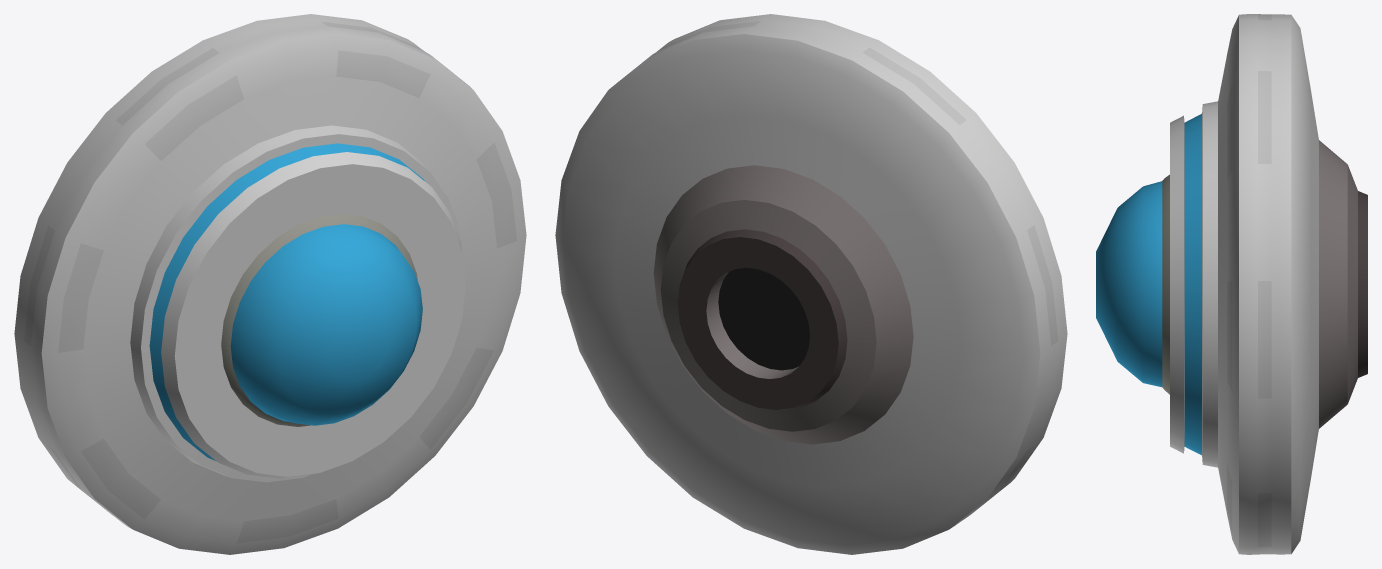
The model's file is Ufo3.fbx.
3 views of the same model, side by side, from view 1: azimuth 30°, elevation 25°; view 2: azimuth 150°, elevation 25°; view 3: azimuth 270°, elevation 25° (orthographic). The views are drawn at different scales.
Visible parts, largest first — view 1: Mesh-Ufo; view 2: Mesh-Ufo; view 3: Mesh-Ufo.
Boxes of the visible parts, bbox=[...] form: Mesh-Ufo: bbox=[14, 14, 526, 554]; Mesh-Ufo: bbox=[555, 14, 1067, 554]; Mesh-Ufo: bbox=[1096, 14, 1367, 554].
Size of the model in its own units: 3.48 by 3.48 by 1.75.
Materials: 1 (1 with a texture image).
